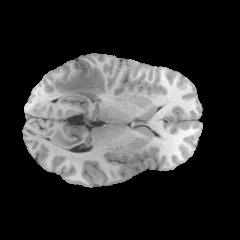glioma: (52, 61, 105, 101)
